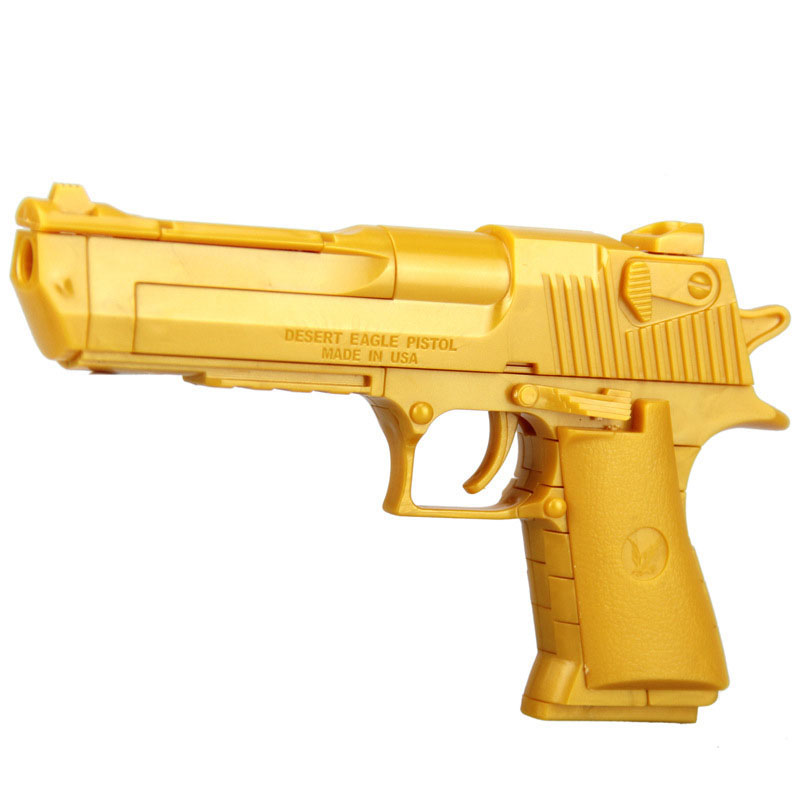Arma Falsa: (7, 183, 793, 741)
